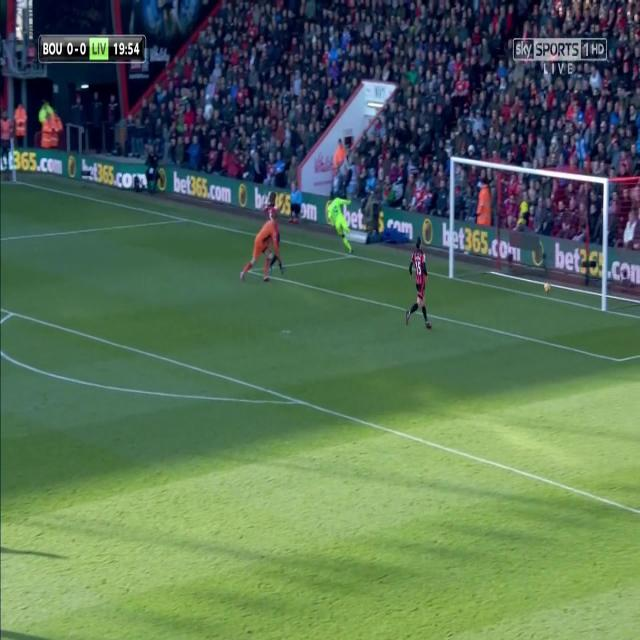Ball: (540, 279, 555, 297)
Goalkeeper: (240, 213, 281, 284)
Player: (401, 235, 434, 332), (327, 193, 355, 253)
